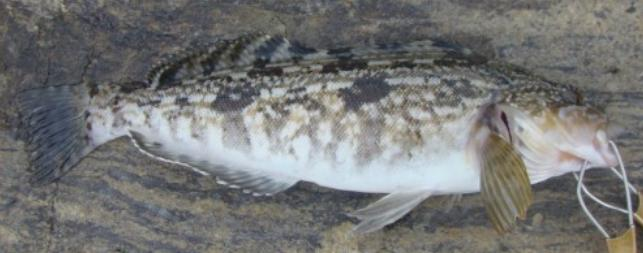fish: (21, 34, 626, 231)
